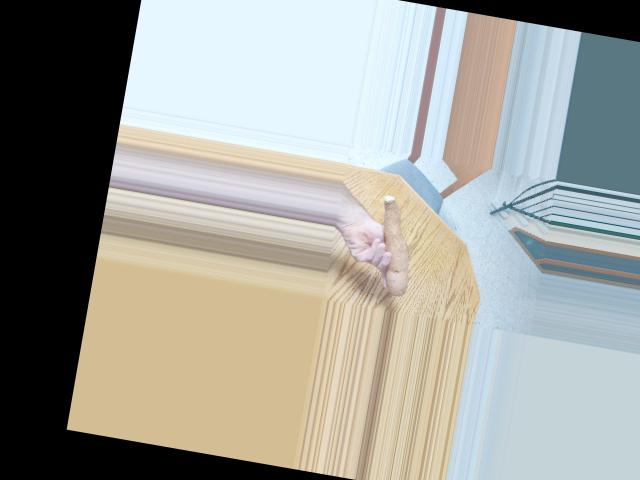sweet_potato: (364, 191, 426, 296)
